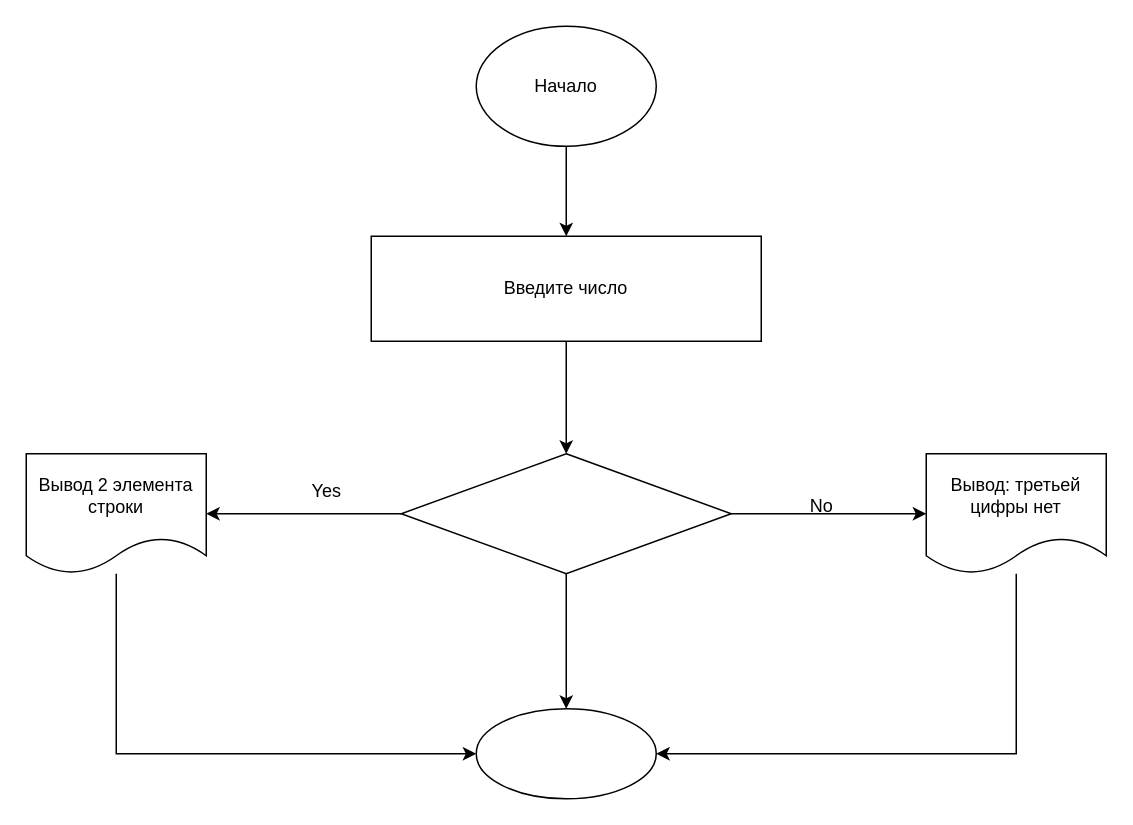
Image size: 1133x825. Some labels were removed from this diagram. The shapes that lost their labels are listed below. From the top down, each one's box as (x1, y1, x2, y2) in pixels, then its label:
(400, 452, 731, 574): Длинна строки >2
(475, 707, 656, 799): Конец
